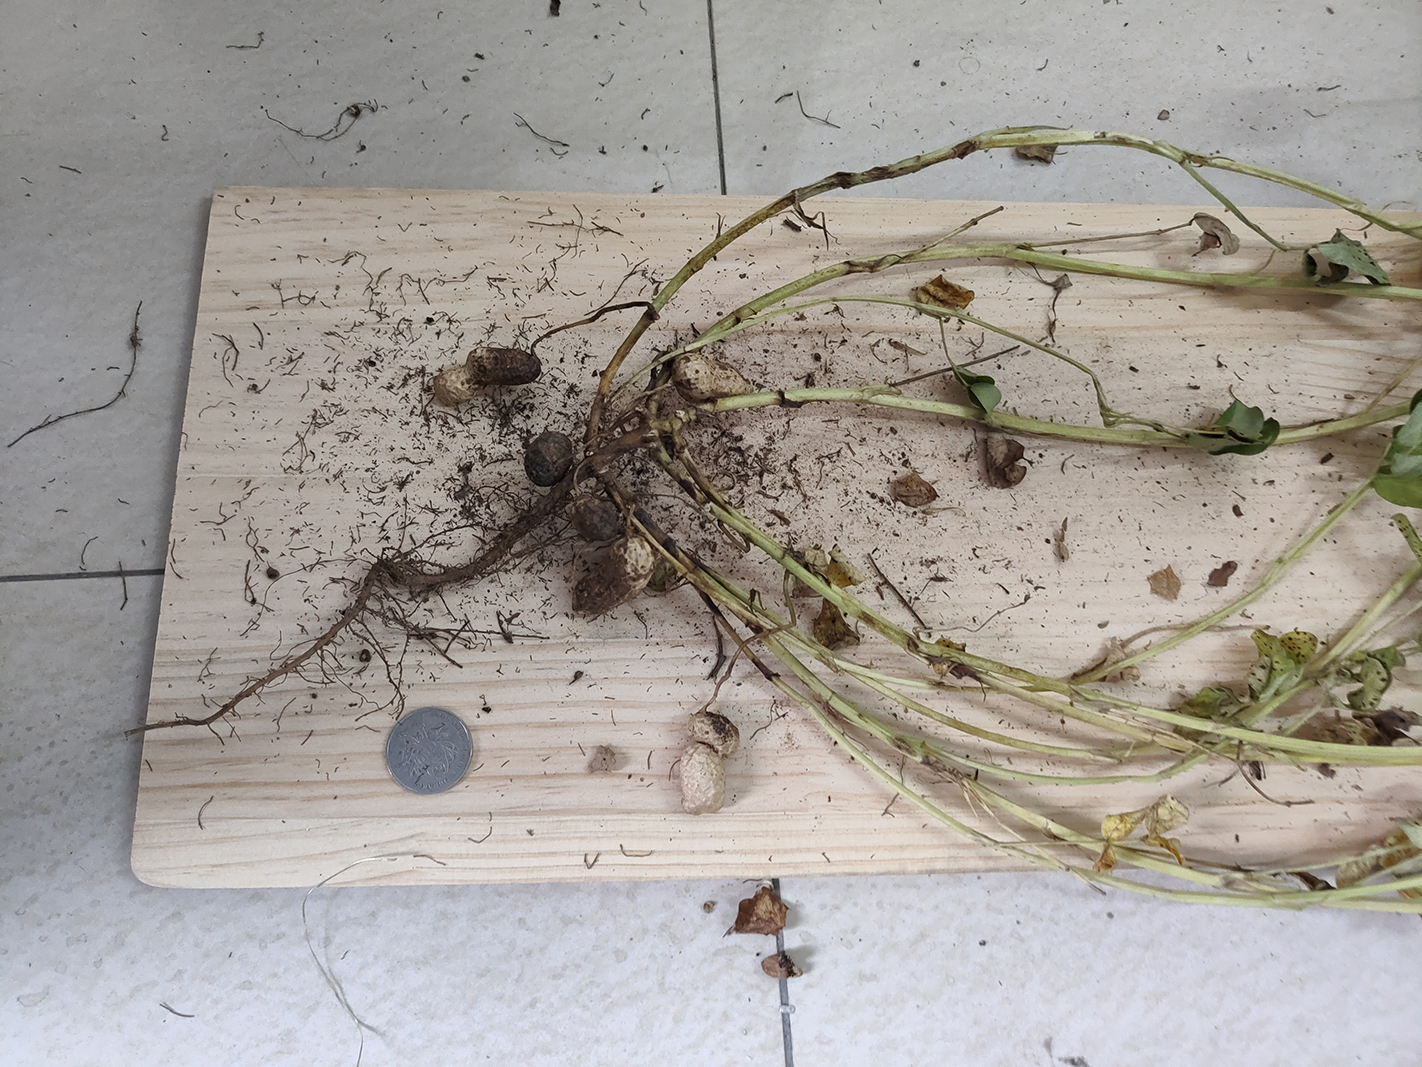h: (680, 709, 738, 814), (672, 351, 752, 398)
l: (569, 537, 654, 618), (433, 345, 541, 400), (523, 430, 573, 484), (574, 498, 620, 542)
